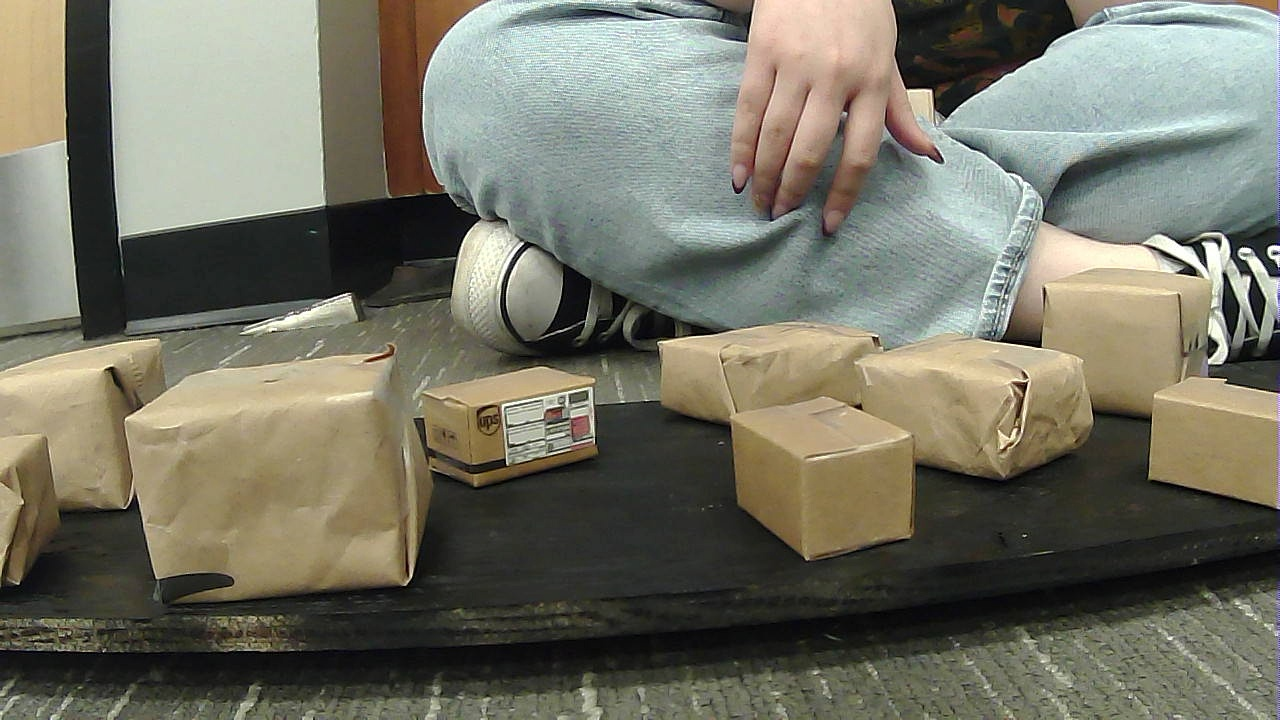package: (104, 354, 447, 590), (851, 316, 1111, 471), (715, 392, 940, 562), (3, 326, 186, 505), (1039, 256, 1238, 417), (623, 311, 904, 409), (402, 358, 619, 477), (1146, 363, 1277, 518), (9, 428, 87, 583)
